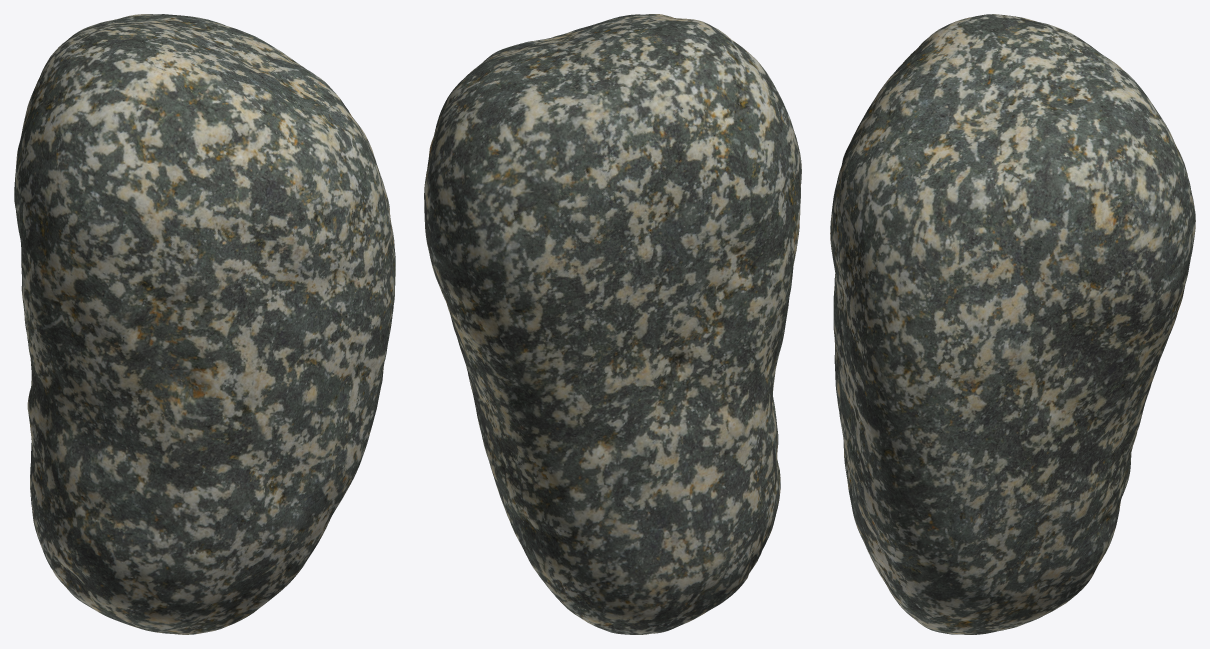
The model's file is Chlorine.glb.
3 renders of one model, left to right at view 1: azimuth 30°, elevation 25°; view 2: azimuth 150°, elevation 25°; view 3: azimuth 270°, elevation 25°, orthographic. The views are drawn at different scales.
Visible parts, largest first — view 1: Object_2; view 2: Object_2; view 3: Object_2.
Boxes of the visible parts, left/top/right/bottom form: Object_2: left=14, top=14, right=395, bottom=634; Object_2: left=424, top=14, right=801, bottom=634; Object_2: left=830, top=14, right=1195, bottom=634.
Bounding box in the file's own units: 2.53 × 4.29 × 2.44.
Materials: 1 (1 with a texture image).
